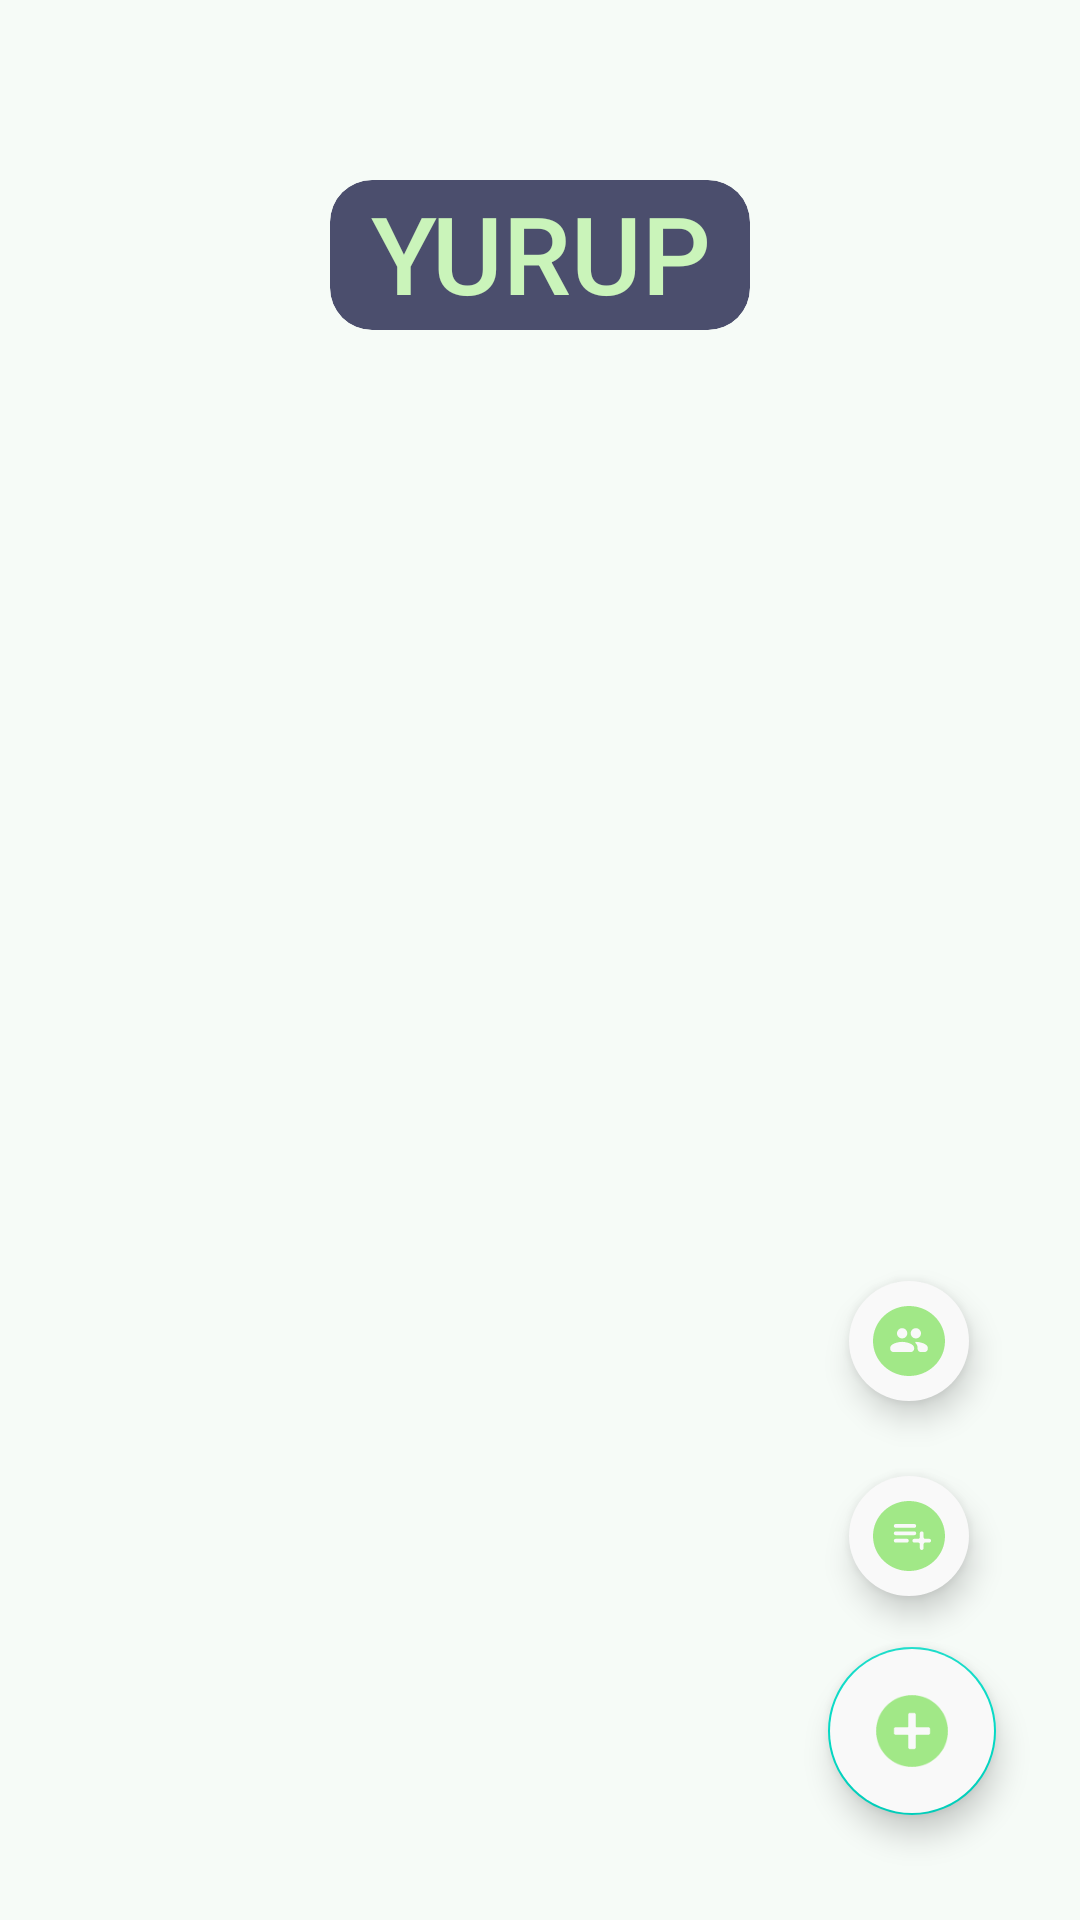

Icon click points for this 1080px x 1920px phone screenshot, format (x=x, y=y):
floatbtn create: (x=913, y=1555)
floatbtn join: (x=913, y=1359)
floatbtn main: (x=912, y=1731)
